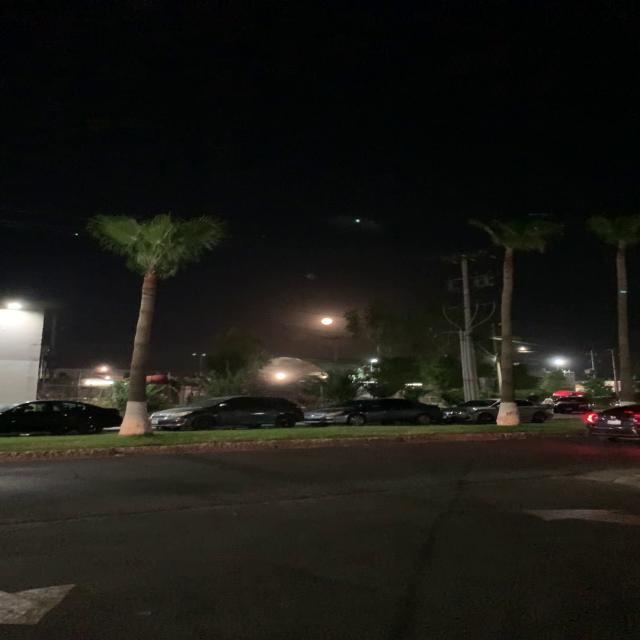moon: (318, 316, 336, 327)
